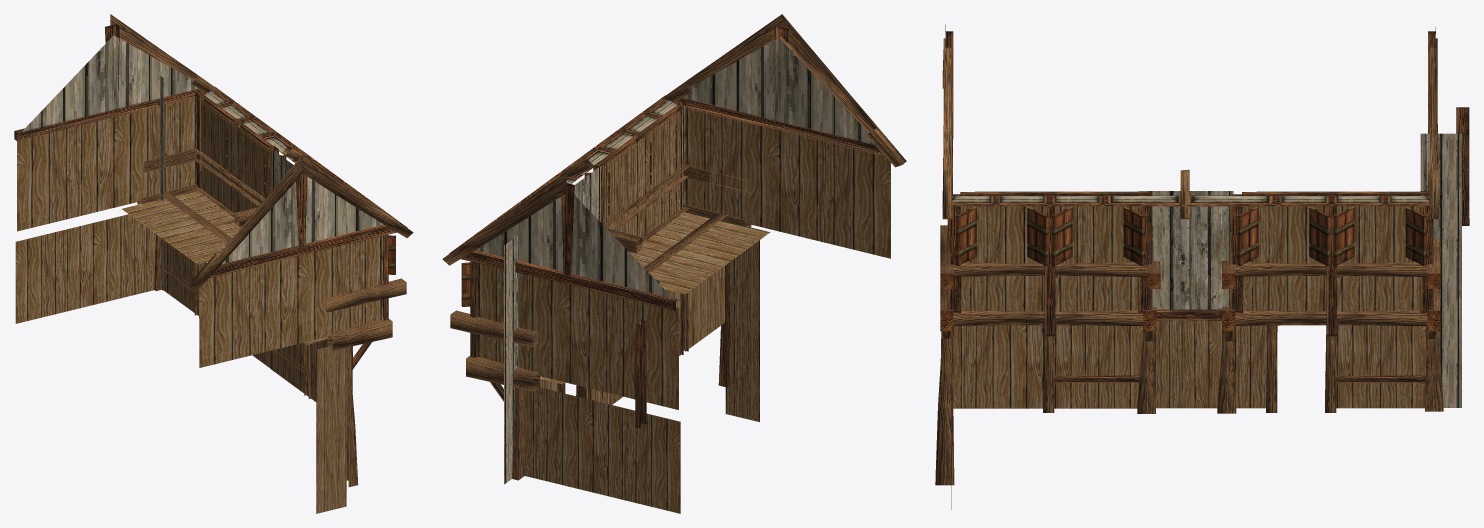
The model's file is LAKETOWN_EXTERIOR_PS_LT_LONGHOUSE9786__GX.fbx.
3 renders of one model, left to right at view 1: azimuth 30°, elevation 25°; view 2: azimuth 150°, elevation 25°; view 3: azimuth 270°, elevation 25°, orthographic. The views are drawn at different scales.
Visible parts, largest first — view 1: LAKETOWN_EXTERIOR_PS_LT_LONGHOUSE9786__GX; view 2: LAKETOWN_EXTERIOR_PS_LT_LONGHOUSE9786__GX; view 3: LAKETOWN_EXTERIOR_PS_LT_LONGHOUSE9786__GX.
Boxes of the visible parts, x1=… form: LAKETOWN_EXTERIOR_PS_LT_LONGHOUSE9786__GX: x1=14, y1=14, x2=413, y2=513; LAKETOWN_EXTERIOR_PS_LT_LONGHOUSE9786__GX: x1=442, y1=14, x2=906, y2=513; LAKETOWN_EXTERIOR_PS_LT_LONGHOUSE9786__GX: x1=935, y1=24, x2=1469, y2=509.
Bounding box in the file's own units: 75067 × 118526 × 121959.
9 materials, 9 textured.
